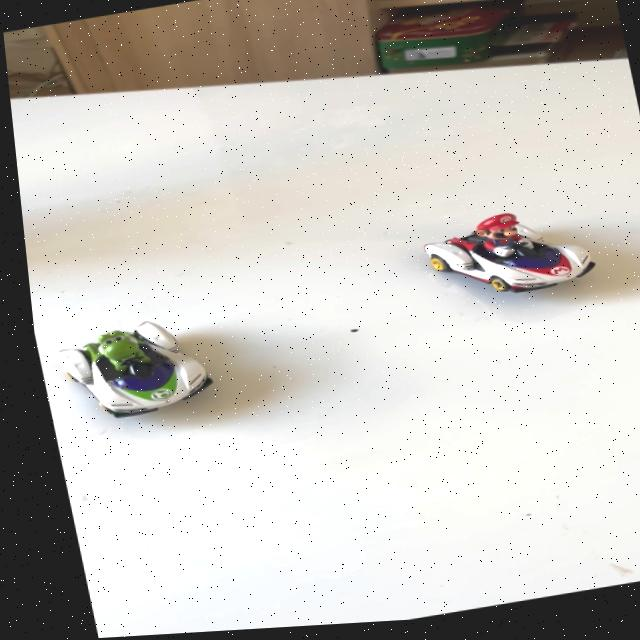mario: (391, 194, 616, 322)
yoshi: (29, 302, 232, 438)
